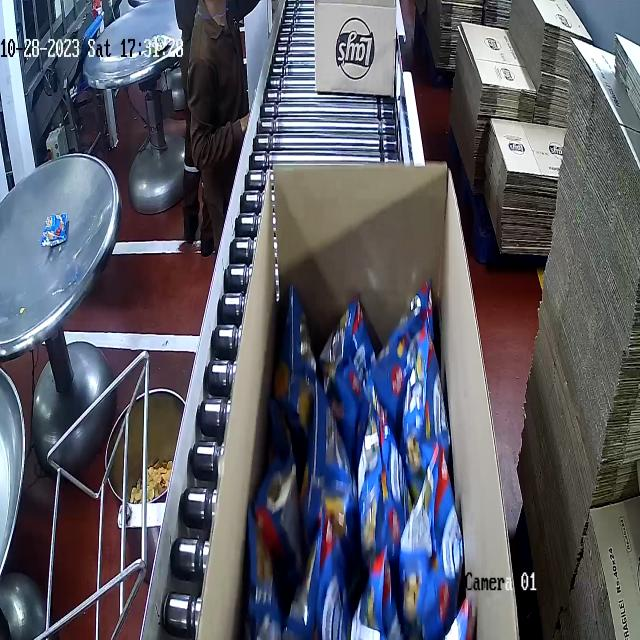PAPRIKA: (254, 283, 478, 640)
